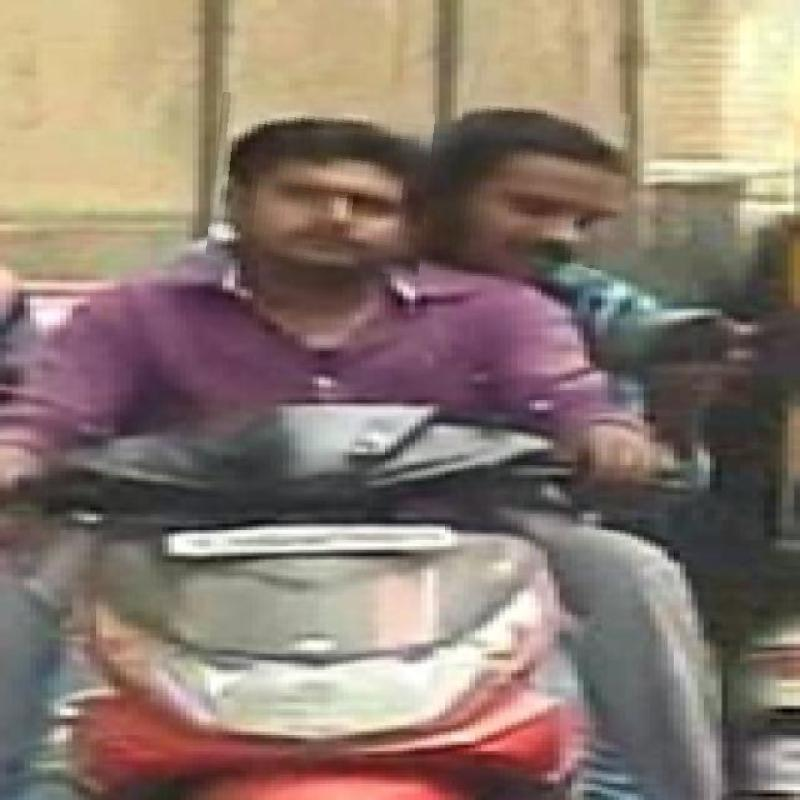nohelmet: (209, 97, 432, 272), (454, 102, 634, 266)
